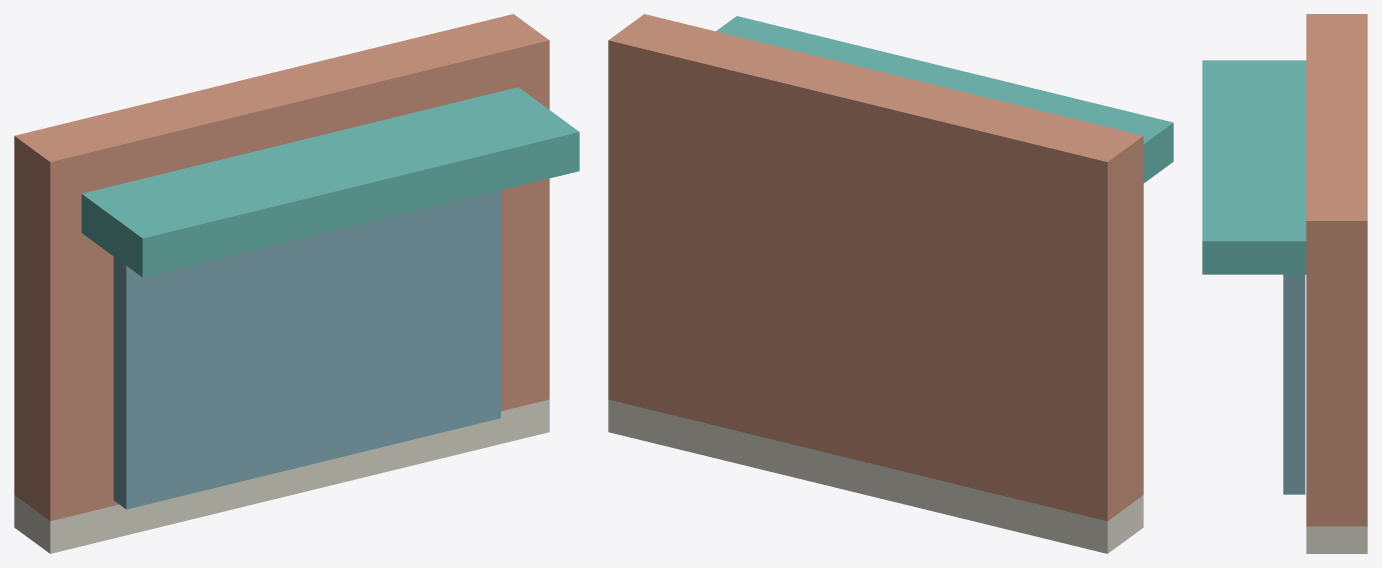
The model's file is voxel-city-districts-shopfront-bay-ff38db6b__24802.glb.
The picture shows the model from 3 angles, left to right: view 1: azimuth 30°, elevation 25°; view 2: azimuth 150°, elevation 25°; view 3: azimuth 270°, elevation 25°; orthographic projection. The views are drawn at different scales.
Visible parts, largest first — view 1: shopfront-bay-glass, shopfront-bay-brick, shopfront-bay-accent, shopfront-bay-concrete; view 2: shopfront-bay-brick, shopfront-bay-concrete, shopfront-bay-accent; view 3: shopfront-bay-brick, shopfront-bay-accent, shopfront-bay-glass, shopfront-bay-concrete.
Part boxes in pixels (x1,y1,x2,y2): shopfront-bay-glass: [113, 190, 500, 509]; shopfront-bay-brick: [14, 14, 549, 521]; shopfront-bay-accent: [81, 87, 579, 277]; shopfront-bay-concrete: [14, 399, 549, 553]; shopfront-bay-brick: [608, 14, 1143, 521]; shopfront-bay-concrete: [608, 399, 1143, 553]; shopfront-bay-accent: [716, 16, 1173, 183]; shopfront-bay-brick: [1306, 14, 1367, 526]; shopfront-bay-accent: [1202, 60, 1306, 274]; shopfront-bay-glass: [1283, 274, 1305, 494]; shopfront-bay-concrete: [1306, 526, 1367, 553].
Size of the model in its own units: 4 by 3 by 1.35.
